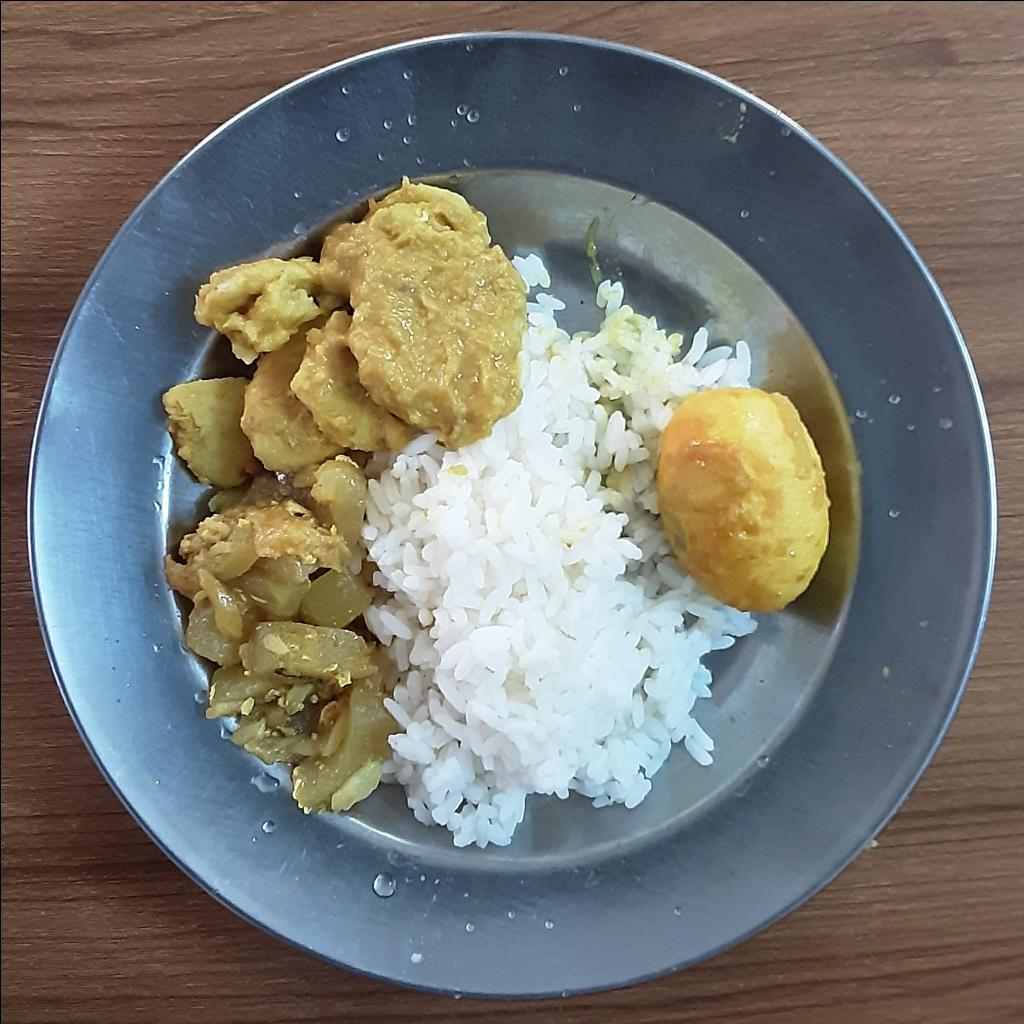egg-boiled: (658, 384, 826, 613)
kochu: (159, 181, 524, 488)
lau: (165, 456, 399, 821)
rice: (359, 251, 759, 851)
